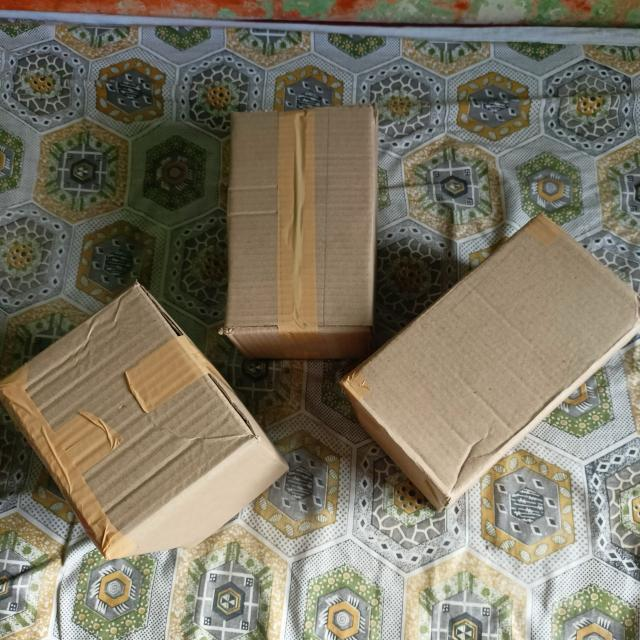box: (346, 214, 640, 499), (3, 285, 255, 557), (224, 103, 375, 331)
